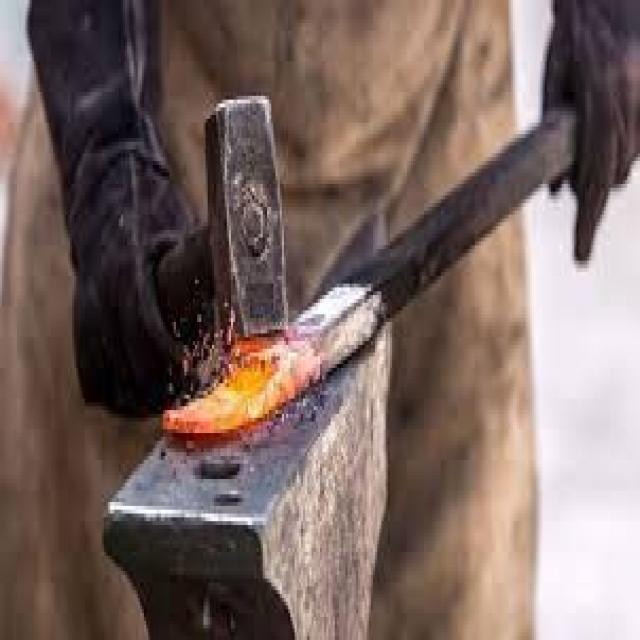hammer: (66, 72, 294, 402)
